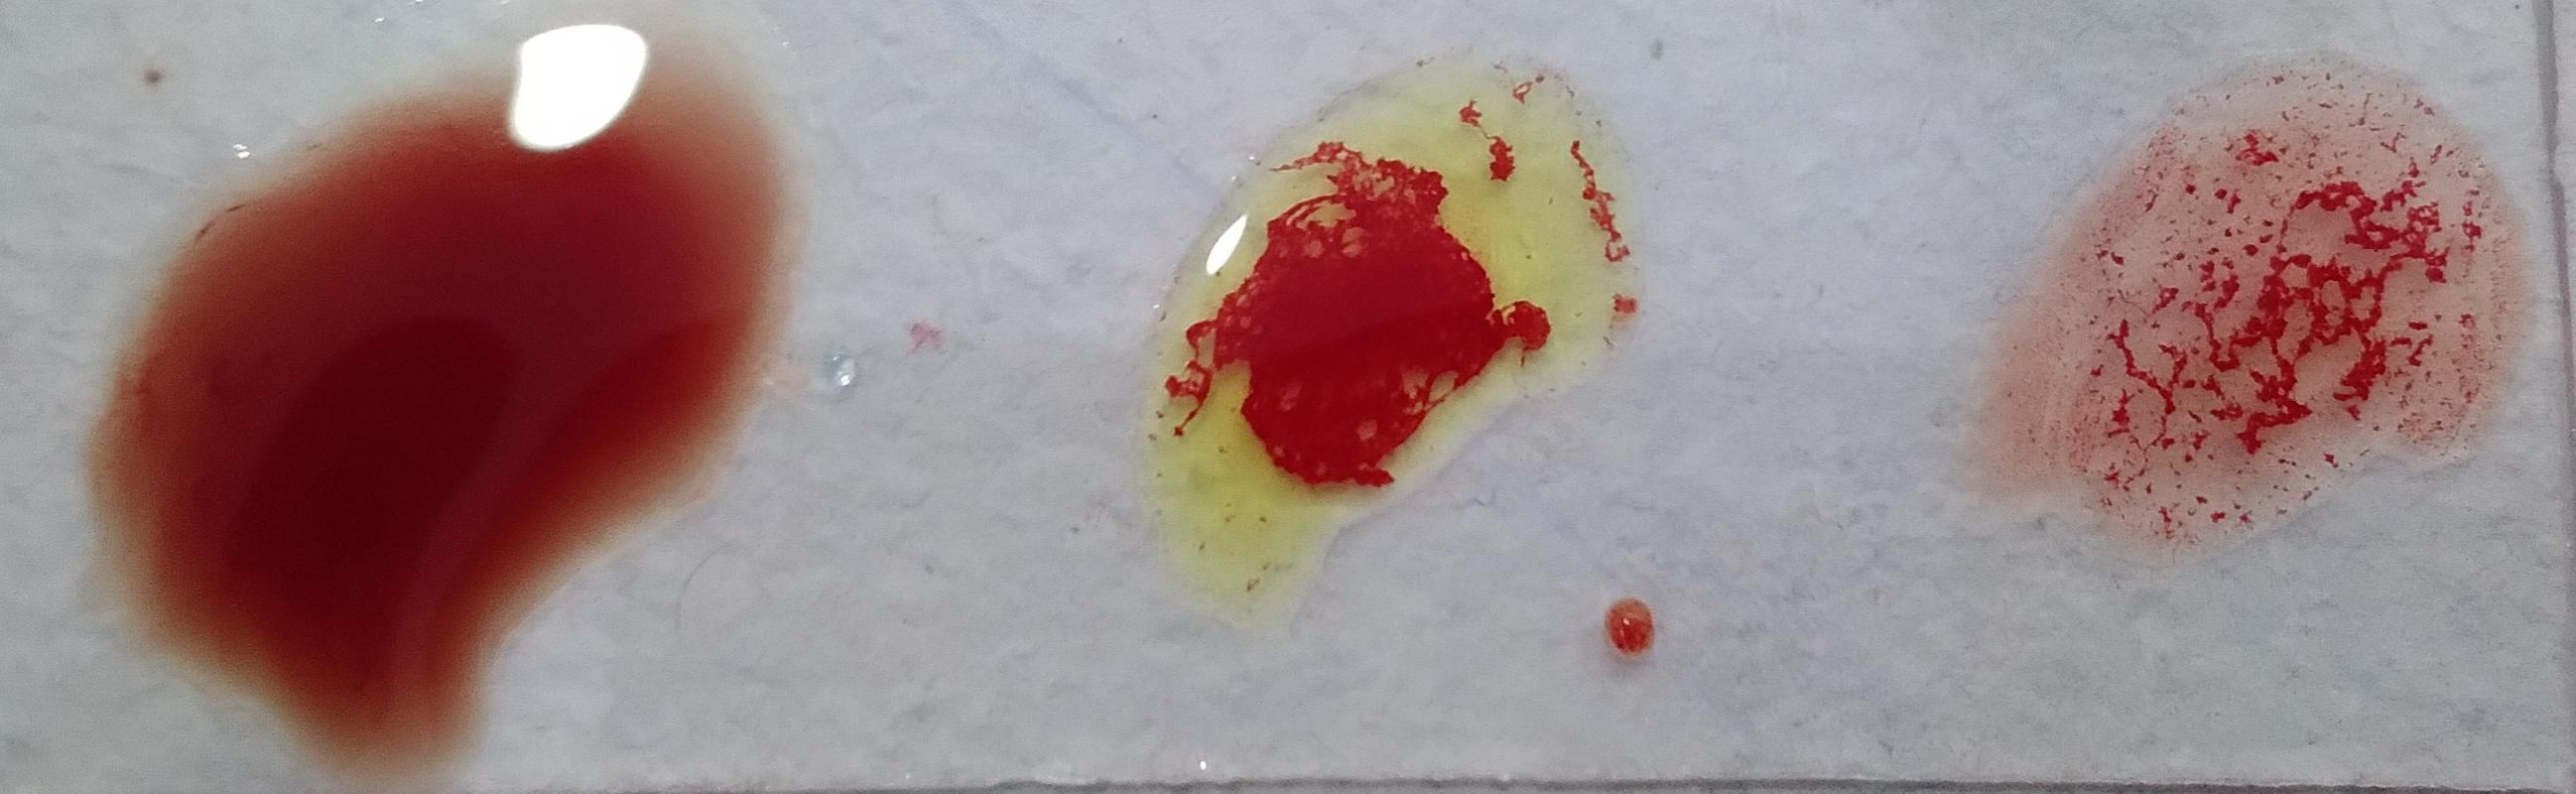B: (964, 164, 1444, 730)
D: (54, 245, 524, 690)
